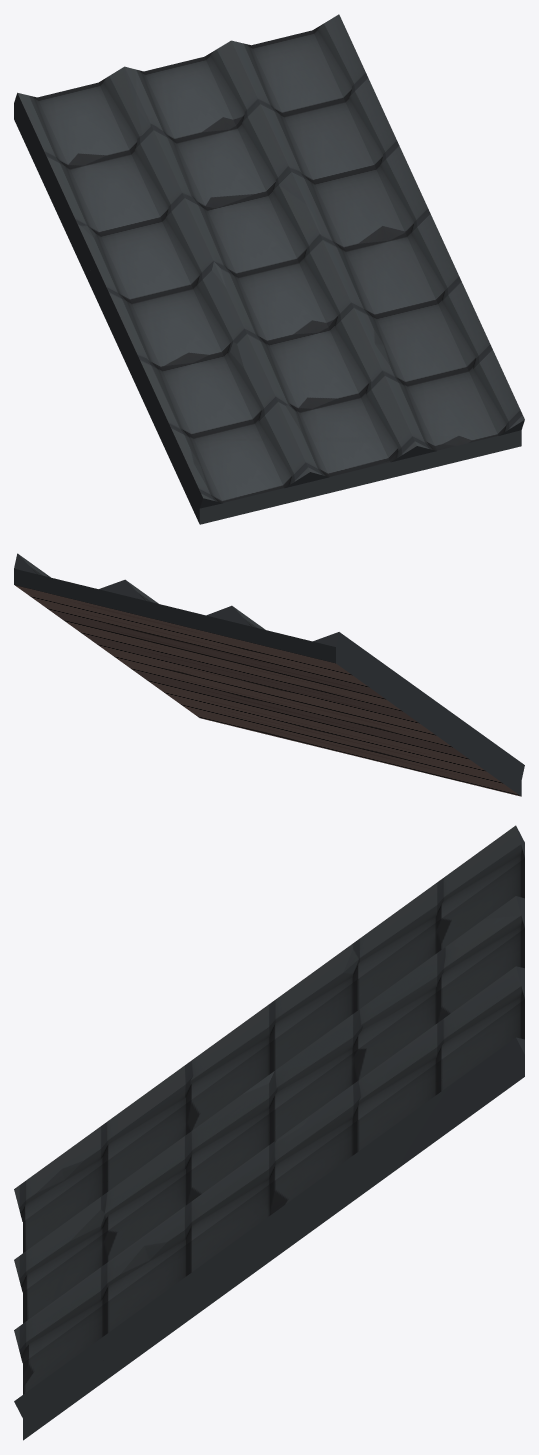
The model's file is SM_Bld_Roof_01.fbx.
3 views of the same model, one above another, from view 1: azimuth 30°, elevation 25°; view 2: azimuth 150°, elevation 25°; view 3: azimuth 270°, elevation 25° (orthographic). The views are drawn at different scales.
Parts seen in each view (by area): view 1: SM_Bld_Roof_01; view 2: SM_Bld_Roof_01; view 3: SM_Bld_Roof_01.
Part boxes in pixels (box(x1,y1,x2,y2)): SM_Bld_Roof_01: box(14, 14, 524, 524); SM_Bld_Roof_01: box(14, 553, 524, 796); SM_Bld_Roof_01: box(14, 825, 524, 1440).
Bounding box in the file's own units: 250 × 222 × 255.
